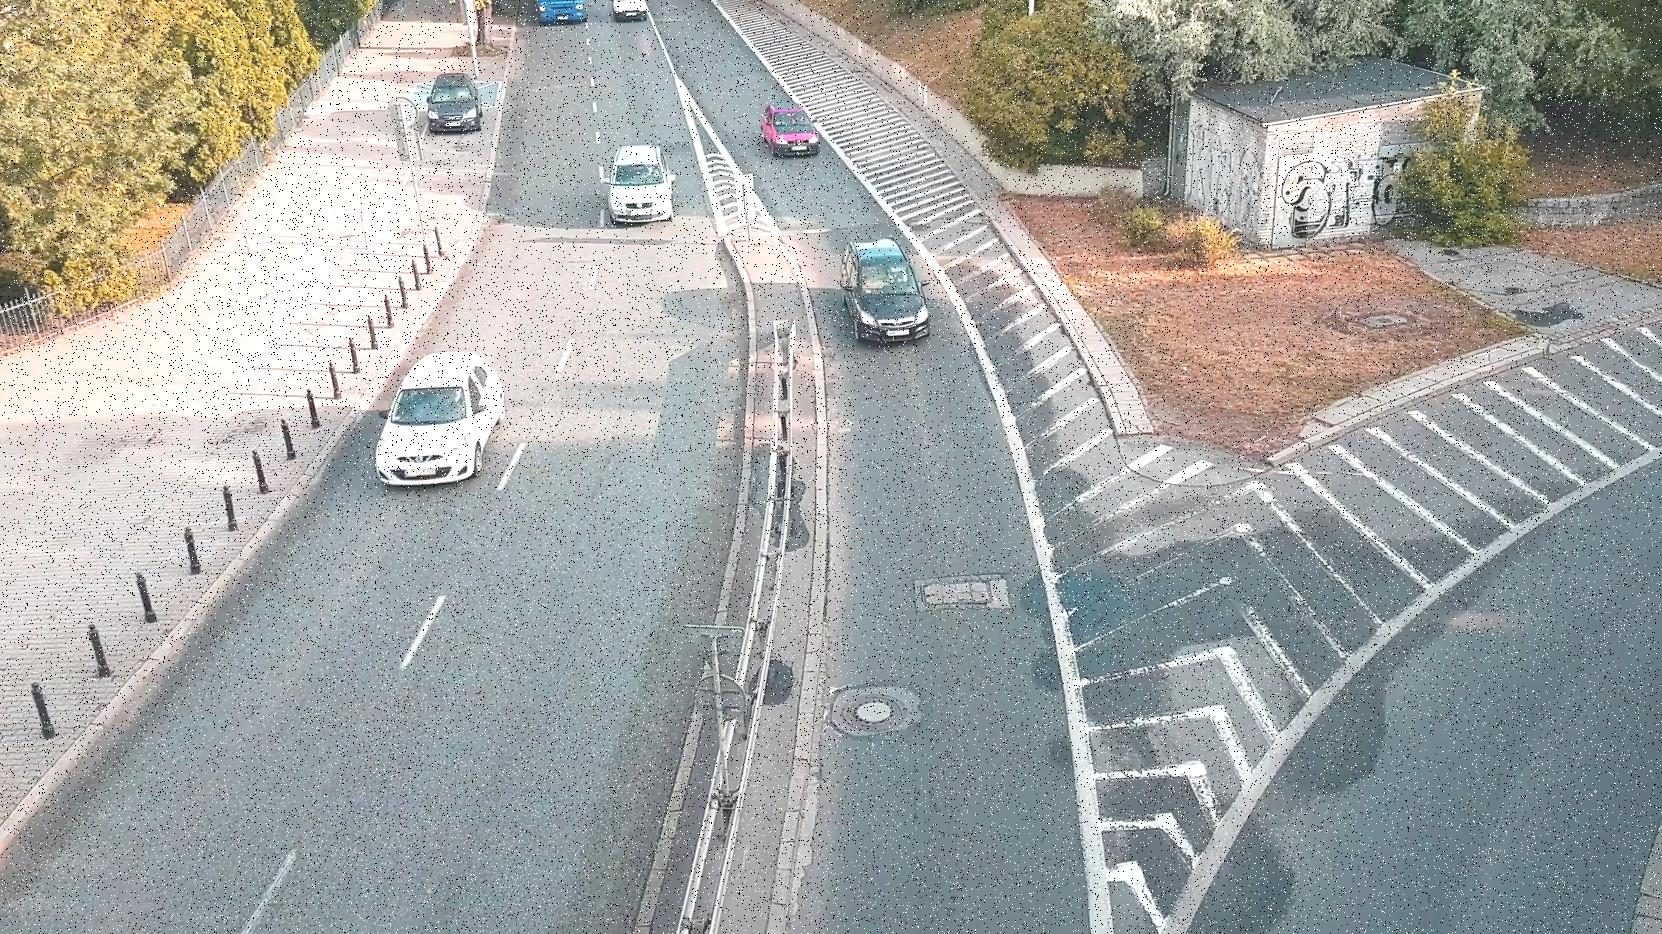bus: (531, 0, 584, 26)
car: (366, 347, 506, 485), (839, 228, 931, 341), (606, 142, 676, 222), (426, 67, 483, 130), (761, 103, 818, 145), (607, 0, 644, 13)
